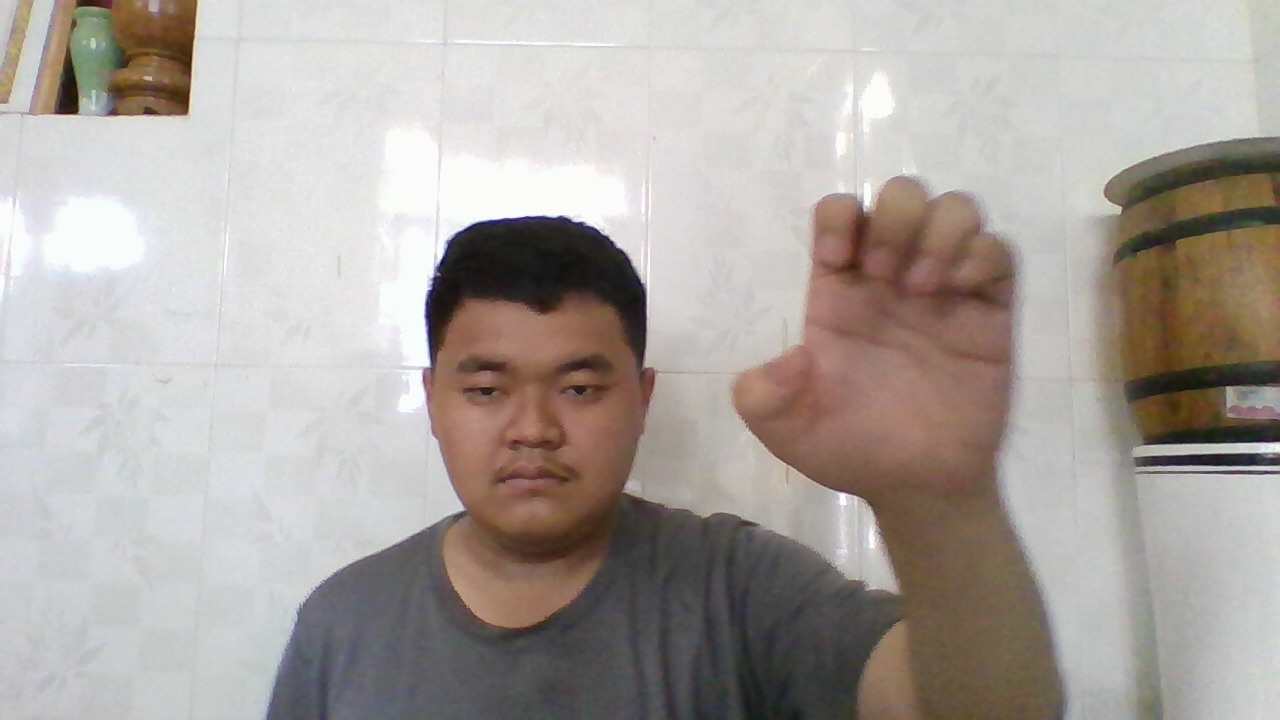E: (731, 175, 1020, 505)
